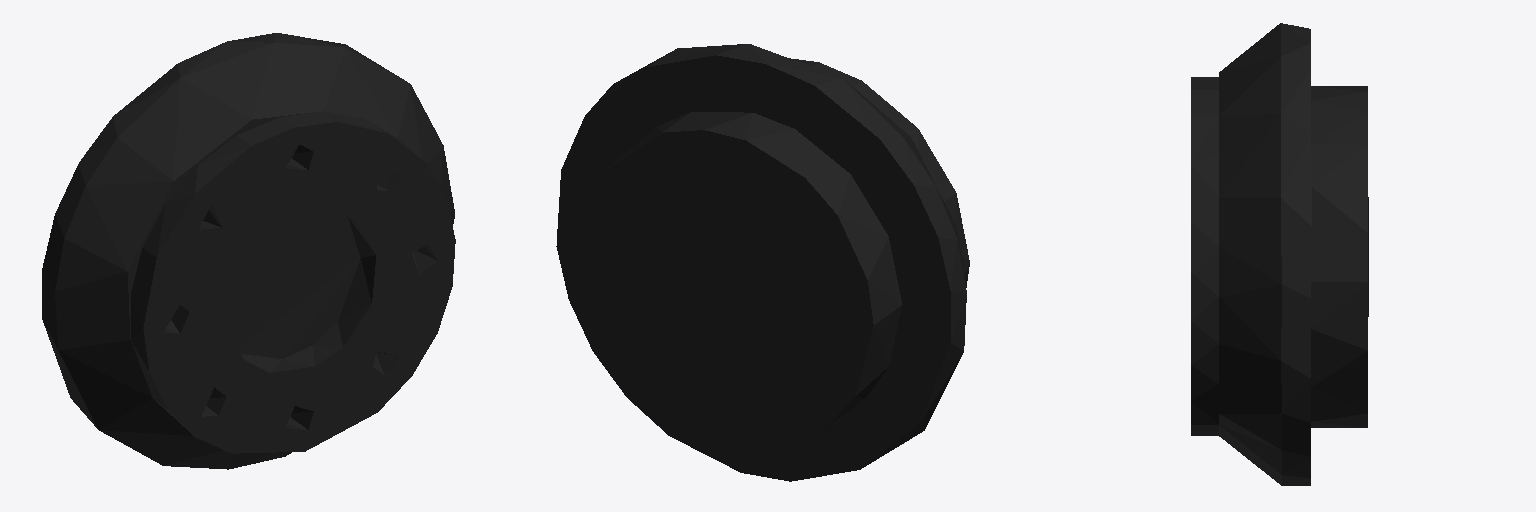
File: kuka7.obj
The picture shows the model from 3 angles: view 1: azimuth 30°, elevation 25°; view 2: azimuth 150°, elevation 25°; view 3: azimuth 270°, elevation 25°; orthographic projection.
Parts seen in each view (by area): view 1: unnamed_object1; view 2: unnamed_object1; view 3: unnamed_object1.
Boxes of the visible parts, x1,y1,x2,y2 form: unnamed_object1: [42, 33, 455, 469]; unnamed_object1: [556, 44, 969, 481]; unnamed_object1: [1191, 23, 1368, 485].
Size of the model in its own units: 0.0805 by 0.0802 by 0.0312.